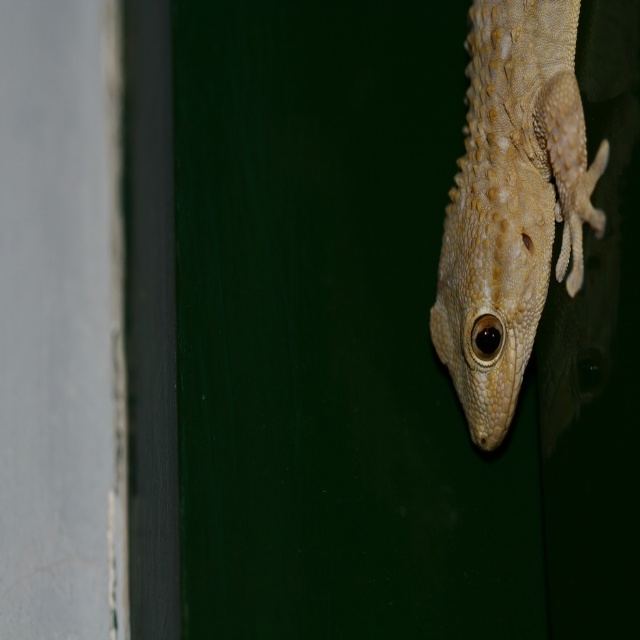Lizard: (431, 45, 609, 469)
